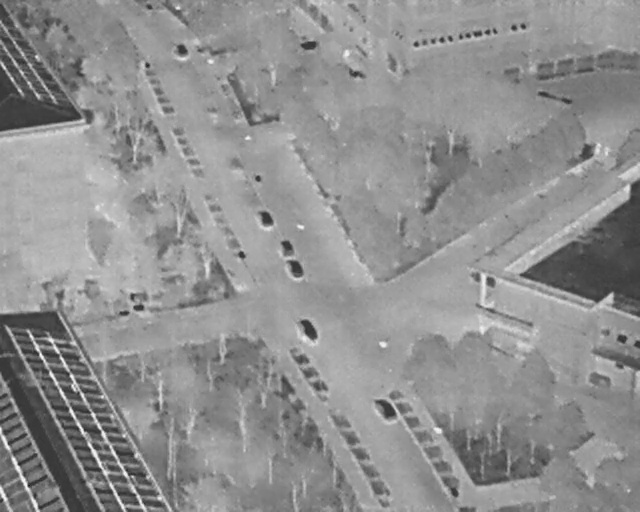Car: (373, 393, 398, 424), (298, 314, 319, 343), (286, 256, 305, 281), (256, 207, 275, 228), (280, 239, 295, 257), (176, 42, 189, 58)
